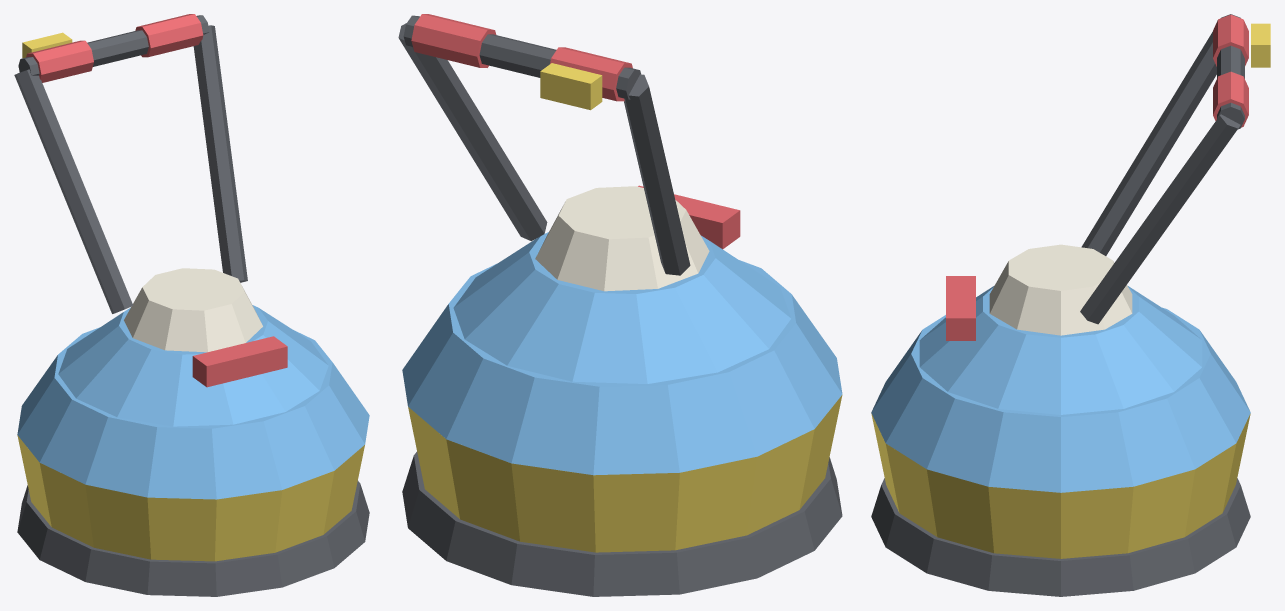
Rendered from lawn-mowing-simulator-kit-hover-mower-9a58cd96__27343.glb.
3 renders of one model, left to right at view 1: azimuth 30°, elevation 25°; view 2: azimuth 150°, elevation 25°; view 3: azimuth 270°, elevation 25°, orthographic. The views are drawn at different scales.
Visible parts, largest first — view 1: hover-mower; view 2: hover-mower; view 3: hover-mower.
Boxes of the visible parts, box(x1,y1,x2,y2) form: hover-mower: box(14, 14, 369, 596); hover-mower: box(398, 14, 842, 596); hover-mower: box(871, 14, 1270, 596).
Bounding box in the file's own units: 0.7601 × 1.02 × 0.8.
